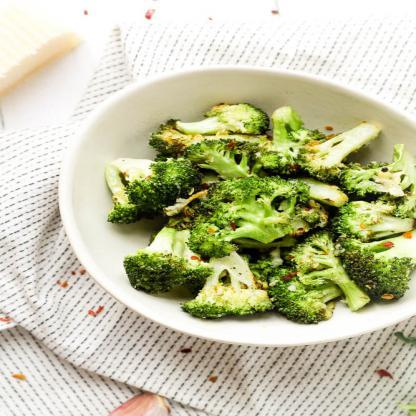broccoli: (100, 103, 416, 325)
